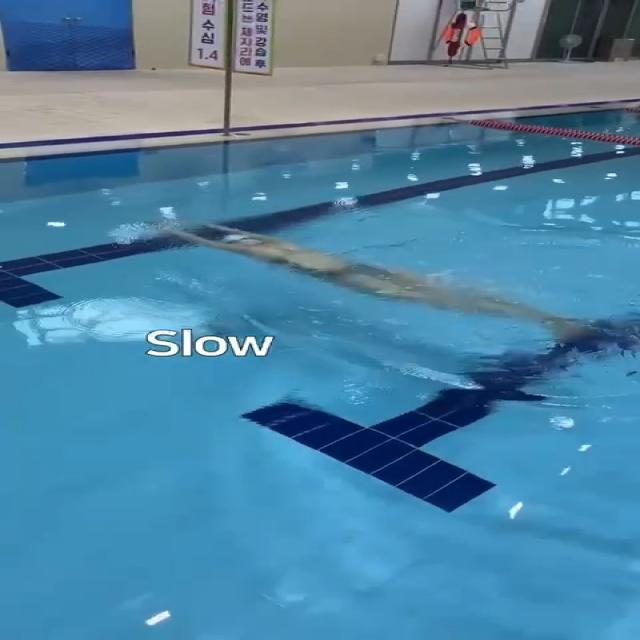Swimming: (172, 221, 590, 330)
